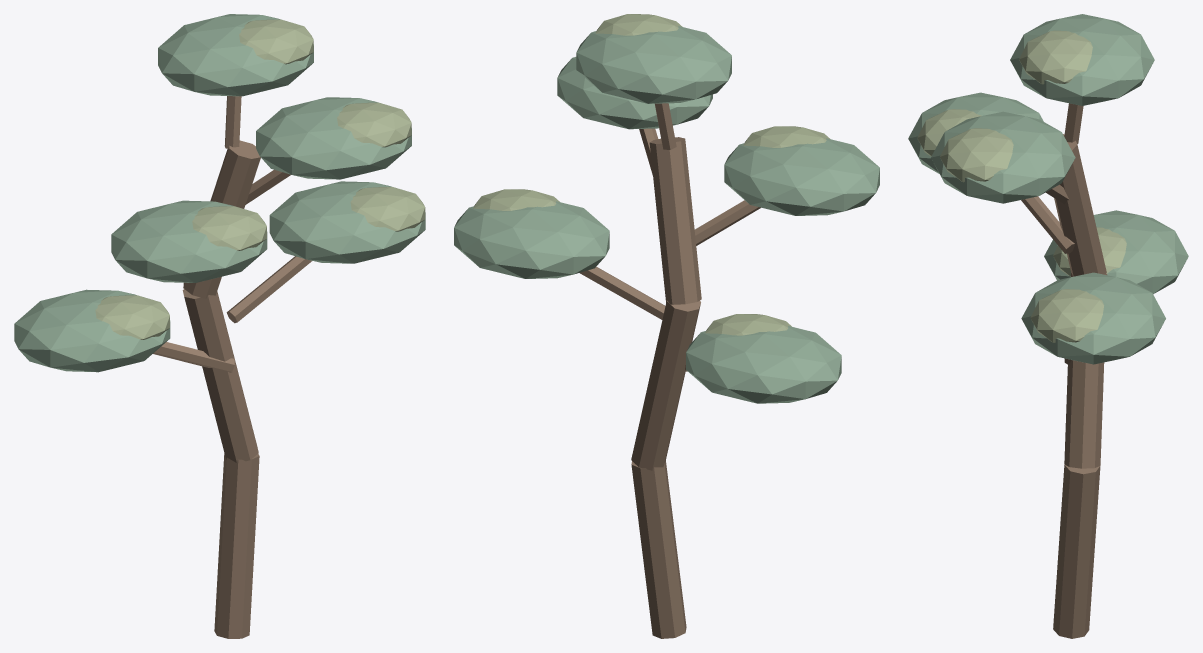
Rendered from env_courtyard_pruned_tree.glb.
3 views of the same model, side by side, from view 1: azimuth 30°, elevation 25°; view 2: azimuth 150°, elevation 25°; view 3: azimuth 270°, elevation 25° (orthographic).
Parts seen in each view (by area): view 1: env_courtyard_pruned_tree/tree_foliage_pad_00010, env_courtyard_pruned_tree/tree_foliage_pad_00004, env_courtyard_pruned_tree/tree_foliage_pad_00007, env_courtyard_pruned_tree/tree_foliage_pad_00016, env_courtyard_pruned_tree/tree_foliage_pad_00013, env_courtyard_pruned_tree/tree_gnarled_trunk_00000, env_courtyard_pruned_tree/tree_gnarled_trunk_00001, env_courtyard_pruned_tree/tree_gnarled_trunk_00002, env_courtyard_pruned_tree/tree_foliage_pad_sub_00008, env_courtyard_pruned_tree/tree_foliage_pad_sub_00017, env_courtyard_pruned_tree/tree_foliage_pad_sub_00014, env_courtyard_pruned_tree/tree_foliage_pad_sub_00011 (+5 smaller); view 2: env_courtyard_pruned_tree/tree_foliage_pad_00016, env_courtyard_pruned_tree/tree_foliage_pad_00004, env_courtyard_pruned_tree/tree_foliage_pad_00007, env_courtyard_pruned_tree/tree_foliage_pad_00010, env_courtyard_pruned_tree/tree_gnarled_trunk_00000, env_courtyard_pruned_tree/tree_gnarled_trunk_00002, env_courtyard_pruned_tree/tree_gnarled_trunk_00001, env_courtyard_pruned_tree/tree_foliage_pad_00013, env_courtyard_pruned_tree/tree_foliage_pad_sub_00011, env_courtyard_pruned_tree/tree_foliage_pad_sub_00008, env_courtyard_pruned_tree/tree_foliage_pad_sub_00017, env_courtyard_pruned_tree/tree_foliage_pad_sub_00005 (+3 smaller); view 3: env_courtyard_pruned_tree/tree_foliage_pad_00013, env_courtyard_pruned_tree/tree_foliage_pad_00007, env_courtyard_pruned_tree/tree_foliage_pad_00016, env_courtyard_pruned_tree/tree_gnarled_trunk_00000, env_courtyard_pruned_tree/tree_foliage_pad_00004, env_courtyard_pruned_tree/tree_gnarled_trunk_00001, env_courtyard_pruned_tree/tree_gnarled_trunk_00002, env_courtyard_pruned_tree/tree_foliage_pad_sub_00014, env_courtyard_pruned_tree/tree_foliage_pad_sub_00008, env_courtyard_pruned_tree/tree_foliage_pad_sub_00017, env_courtyard_pruned_tree/tree_foliage_pad_00010, env_courtyard_pruned_tree/tree_foliage_pad_sub_00011 (+3 smaller).
Part boxes in pixels (x1,y1,x2,y2): env_courtyard_pruned_tree/tree_foliage_pad_00010: (111,200,267,282); env_courtyard_pruned_tree/tree_foliage_pad_00004: (14,289,170,372); env_courtyard_pruned_tree/tree_foliage_pad_00007: (269,181,425,263); env_courtyard_pruned_tree/tree_foliage_pad_00016: (158,14,313,96); env_courtyard_pruned_tree/tree_foliage_pad_00013: (256,97,411,179); env_courtyard_pruned_tree/tree_gnarled_trunk_00000: (214,453,259,638); env_courtyard_pruned_tree/tree_gnarled_trunk_00001: (182,289,258,462); env_courtyard_pruned_tree/tree_gnarled_trunk_00002: (183,140,260,298); env_courtyard_pruned_tree/tree_foliage_pad_sub_00008: (350,187,425,231); env_courtyard_pruned_tree/tree_foliage_pad_sub_00017: (239,19,313,64); env_courtyard_pruned_tree/tree_foliage_pad_sub_00014: (337,102,411,147); env_courtyard_pruned_tree/tree_foliage_pad_sub_00011: (192,206,266,250); env_courtyard_pruned_tree/tree_foliage_pad_00016: (576,26,731,103); env_courtyard_pruned_tree/tree_foliage_pad_00004: (686,326,841,403); env_courtyard_pruned_tree/tree_foliage_pad_00007: (454,201,609,278); env_courtyard_pruned_tree/tree_foliage_pad_00010: (724,138,879,215); env_courtyard_pruned_tree/tree_gnarled_trunk_00000: (631,460,686,638); env_courtyard_pruned_tree/tree_gnarled_trunk_00002: (649,137,701,304); env_courtyard_pruned_tree/tree_gnarled_trunk_00001: (631,301,700,470); env_courtyard_pruned_tree/tree_foliage_pad_00013: (557,57,712,129); env_courtyard_pruned_tree/tree_foliage_pad_sub_00011: (743,126,829,147); env_courtyard_pruned_tree/tree_foliage_pad_sub_00008: (473,189,559,210); env_courtyard_pruned_tree/tree_foliage_pad_sub_00017: (595,14,682,35); env_courtyard_pruned_tree/tree_foliage_pad_sub_00005: (705,314,791,335); env_courtyard_pruned_tree/tree_foliage_pad_00013: (931,111,1075,203); env_courtyard_pruned_tree/tree_foliage_pad_00007: (1021,272,1165,364); env_courtyard_pruned_tree/tree_foliage_pad_00016: (1010,14,1154,105); env_courtyard_pruned_tree/tree_gnarled_trunk_00000: (1053,464,1100,638); env_courtyard_pruned_tree/tree_foliage_pad_00004: (1044,210,1188,294); env_courtyard_pruned_tree/tree_gnarled_trunk_00001: (1064,273,1107,468); env_courtyard_pruned_tree/tree_gnarled_trunk_00002: (1054,134,1106,276); env_courtyard_pruned_tree/tree_foliage_pad_sub_00014: (940,128,1013,182); env_courtyard_pruned_tree/tree_foliage_pad_sub_00008: (1030,289,1103,342); env_courtyard_pruned_tree/tree_foliage_pad_sub_00017: (1019,30,1092,84); env_courtyard_pruned_tree/tree_foliage_pad_00010: (908,92,1043,173); env_courtyard_pruned_tree/tree_foliage_pad_sub_00011: (917,109,981,156).
Size of the model in its own units: 2.01 by 2.96 by 1.24.
